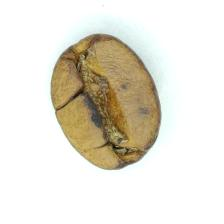NG: (64, 53, 145, 159)
